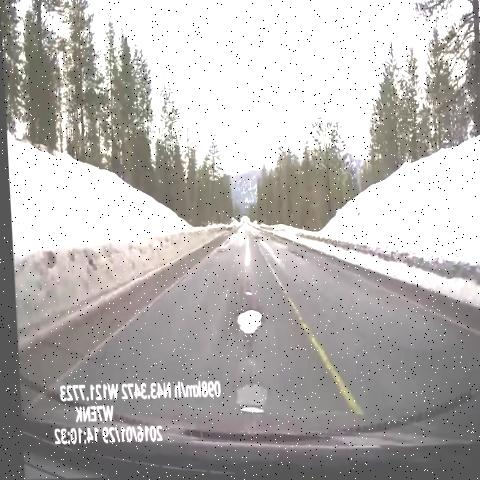pothole: (225, 290, 268, 344), (229, 372, 268, 412)
